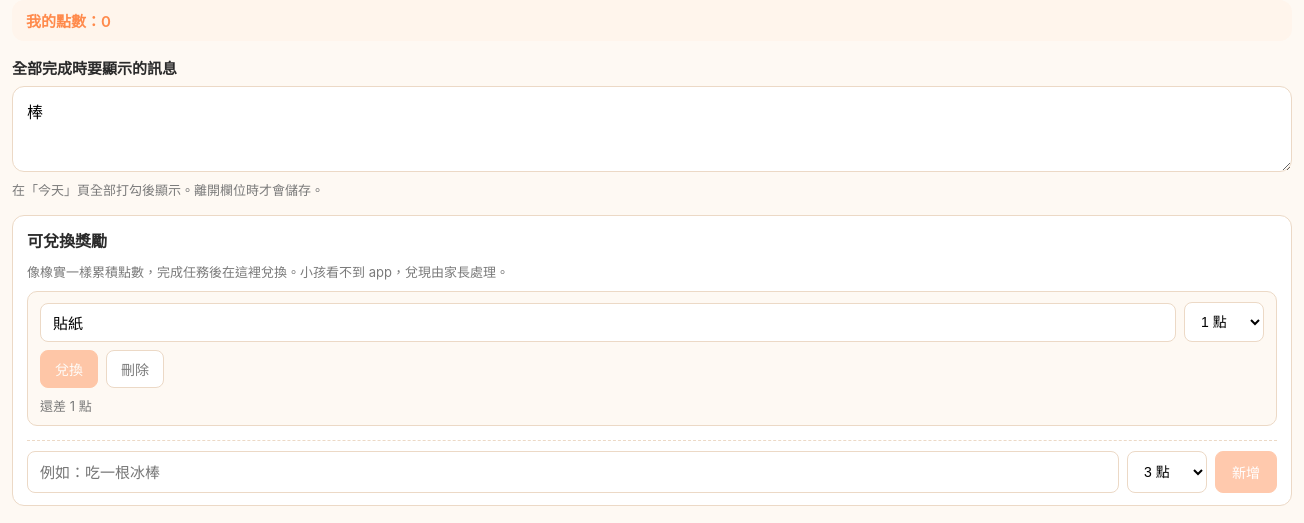
Scenario: SettingsPage › removes a reward from the catalog
The image size is (1304, 523).
Click the button with aria-label "刪除獎勵 貼紙". click: (135, 369)
box: top-left (106, 350), bottom-right (164, 388)
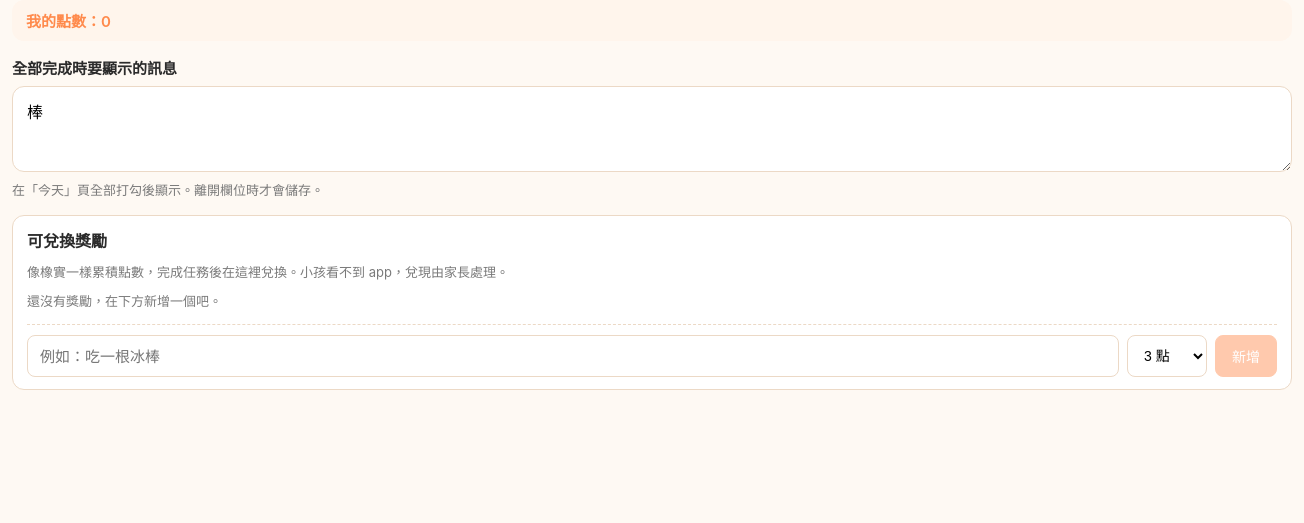
Now the text "還沒有獎勵，在下方新增一個吧。" is shown, box top-left (27, 293), bottom-right (222, 309)
